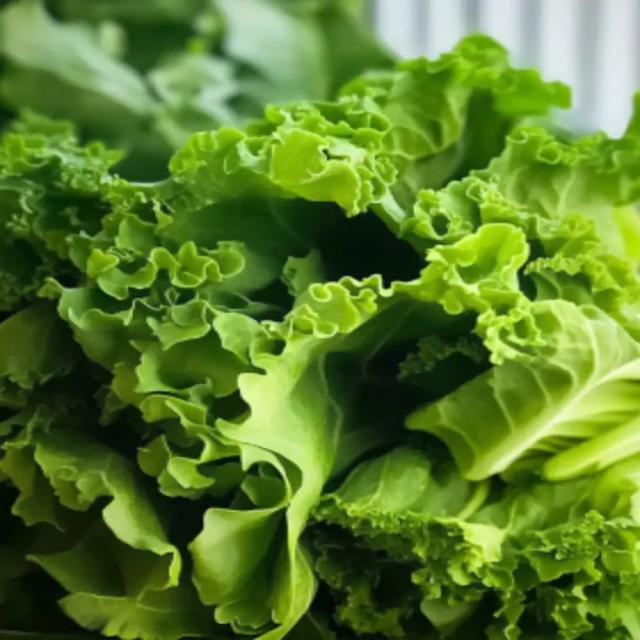lettuce: (0, 37, 639, 639)
